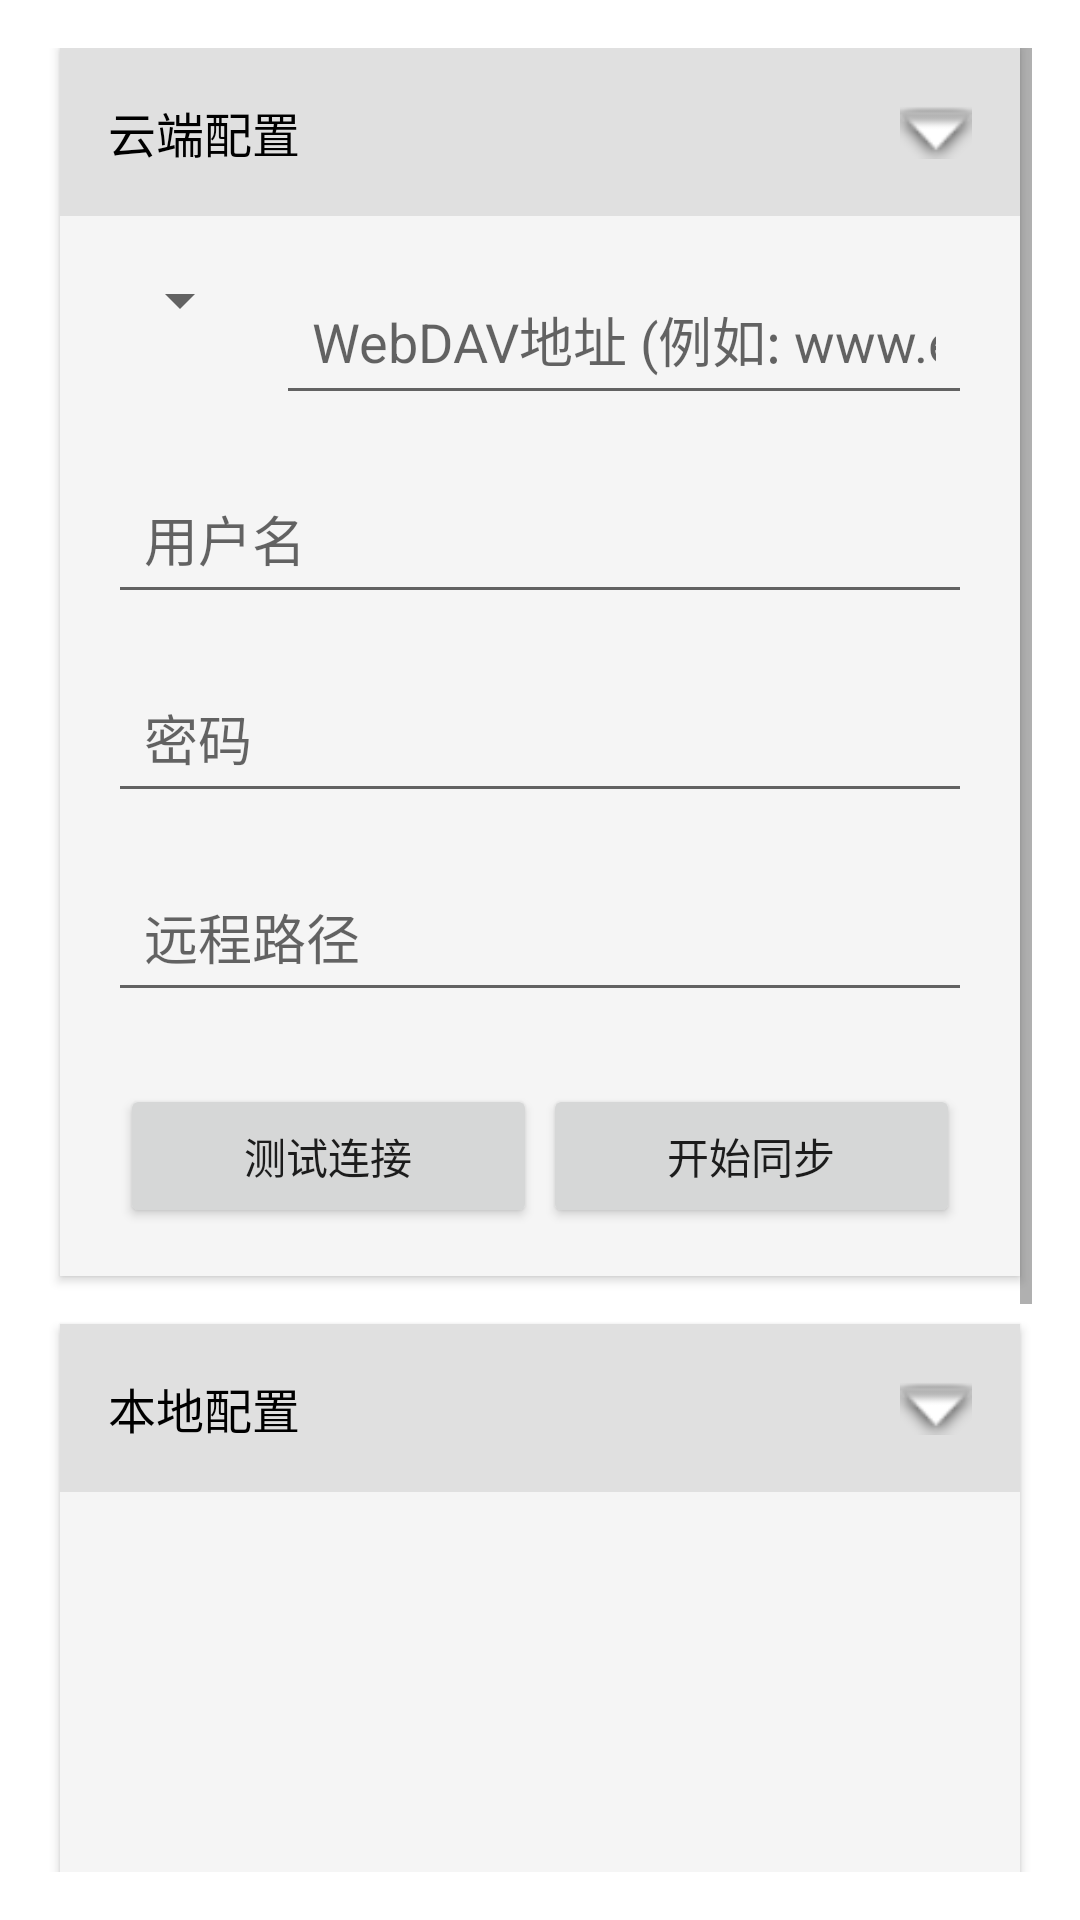

Locate icon controls on the screen. Image size 1080x1920, boxes as bbox(x1, y1, x2, y2).
arrow down float: bbox(900, 108, 972, 156), bbox(900, 1384, 972, 1432)
